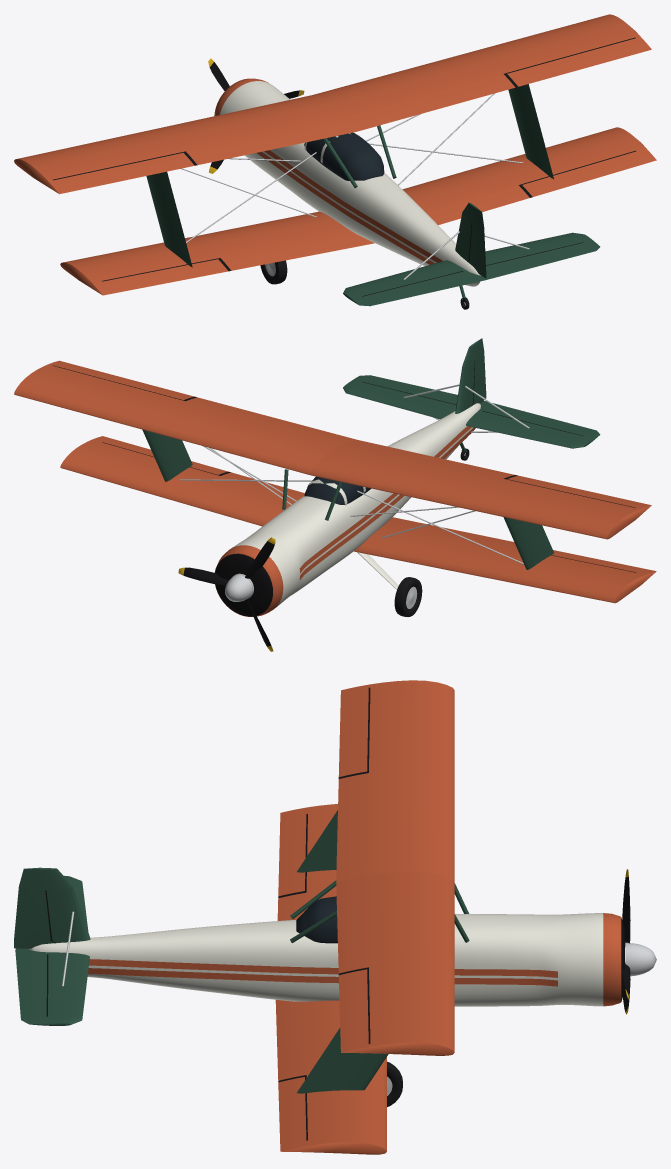
The model's file is jaz-25.glb.
3 renders of one model, top to bottom at view 1: azimuth 30°, elevation 25°; view 2: azimuth 150°, elevation 25°; view 3: azimuth 270°, elevation 25°, orthographic. The views are drawn at different scales.
Parts seen in each view (by area): view 1: ala-alta, ala-baja, fuselaje, riostra-entre-alas, estabilizador, carlinga, aleron-alto-derecha-piel, aleron-alto-izquierda-piel, cintura, aleron-bajo-derecha-piel, aleron-bajo-izquierda-piel, profundidad-izquierda-piel (+5 smaller); view 2: ala-alta, ala-baja, fuselaje, estabilizador, riostra-entre-alas, cintura, cables, deriva, helice-palas, profundidad-izquierda-piel, carlinga, aleron-alto-derecha-piel (+7 smaller); view 3: ala-alta, fuselaje, ala-baja, cintura, riostra-entre-alas, estabilizador, deriva, aleron-alto-izquierda-piel, aleron-alto-derecha-piel, aleron-bajo-izquierda-piel, profundidad-derecha-piel, aleron-bajo-derecha-piel (+5 smaller).
Part boxes in pixels (x1=…): ala-alta: x1=14, y1=14, x2=651, y2=194; ala-baja: x1=60, y1=127, x2=656, y2=295; fuselaje: x1=214, y1=78, x2=480, y2=286; riostra-entre-alas: x1=146, y1=84, x2=553, y2=267; estabilizador: x1=343, y1=232, x2=600, y2=306; carlinga: x1=304, y1=132, x2=384, y2=180; aleron-alto-derecha-piel: x1=507, y1=38, x2=646, y2=86; aleron-alto-izquierda-piel: x1=53, y1=152, x2=194, y2=192; cintura: x1=257, y1=150, x2=466, y2=284; aleron-bajo-derecha-piel: x1=522, y1=151, x2=646, y2=196; aleron-bajo-izquierda-piel: x1=103, y1=259, x2=228, y2=293; profundidad-izquierda-piel: x1=363, y1=271, x2=475, y2=305; ala-alta: x1=14, y1=360, x2=651, y2=539; ala-baja: x1=60, y1=436, x2=656, y2=603; fuselaje: x1=214, y1=403, x2=480, y2=616; estabilizador: x1=343, y1=375, x2=600, y2=448; riostra-entre-alas: x1=142, y1=429, x2=553, y2=569; cintura: x1=299, y1=426, x2=475, y2=579; cables: x1=180, y1=446, x2=523, y2=563; deriva: x1=455, y1=338, x2=486, y2=413; helice-palas: x1=183, y1=541, x2=274, y2=646; profundidad-izquierda-piel: x1=483, y1=403, x2=593, y2=435; carlinga: x1=304, y1=476, x2=371, y2=504; aleron-alto-derecha-piel: x1=53, y1=362, x2=193, y2=399; ala-alta: x1=336, y1=680, x2=454, y2=1055; fuselaje: x1=28, y1=913, x2=624, y2=1006; ala-baja: x1=275, y1=804, x2=386, y2=1154; cintura: x1=88, y1=959, x2=557, y2=986; riostra-entre-alas: x1=297, y1=810, x2=388, y2=1093; estabilizador: x1=15, y1=875, x2=89, y2=1025; deriva: x1=14, y1=867, x2=90, y2=948; aleron-alto-izquierda-piel: x1=338, y1=688, x2=368, y2=776; aleron-alto-derecha-piel: x1=338, y1=969, x2=368, y2=1049; aleron-bajo-izquierda-piel: x1=278, y1=814, x2=306, y2=896; profundidad-derecha-piel: x1=16, y1=954, x2=46, y2=1018; aleron-bajo-derecha-piel: x1=278, y1=1077, x2=306, y2=1146.
Bounding box in the file's own units: 12.49 × 3.23 × 9.22.
